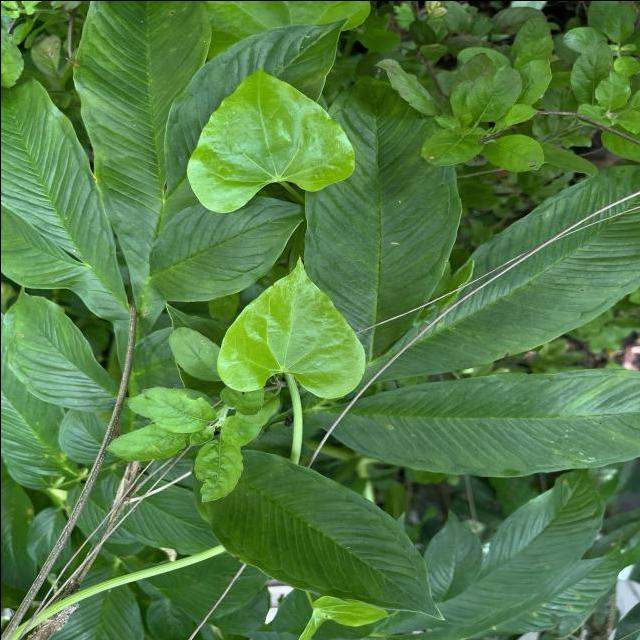Tinospora cordifolia: (183, 64, 356, 214), (214, 252, 368, 400)
